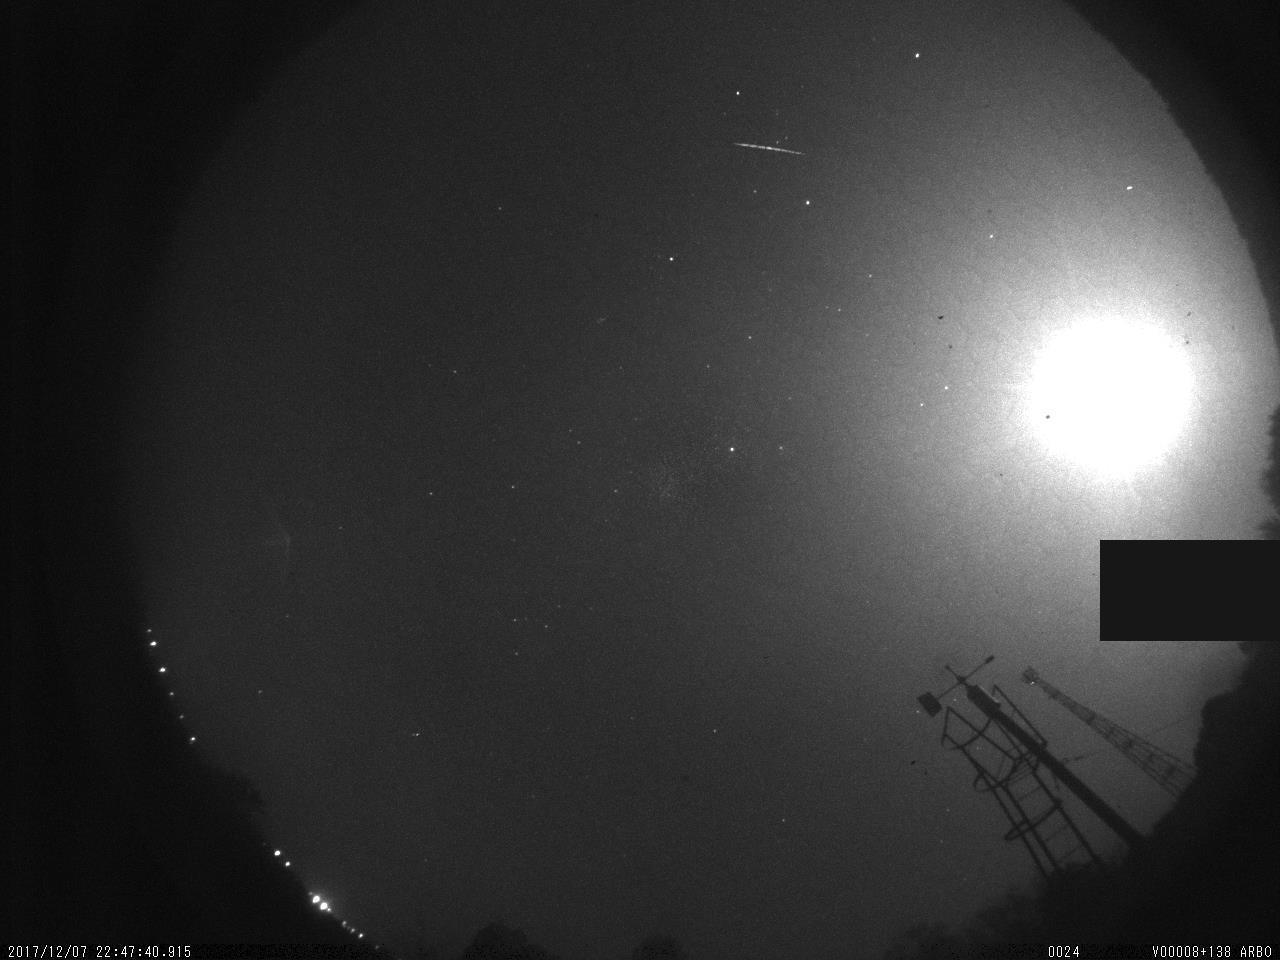Meteor: (725, 136, 812, 165)
